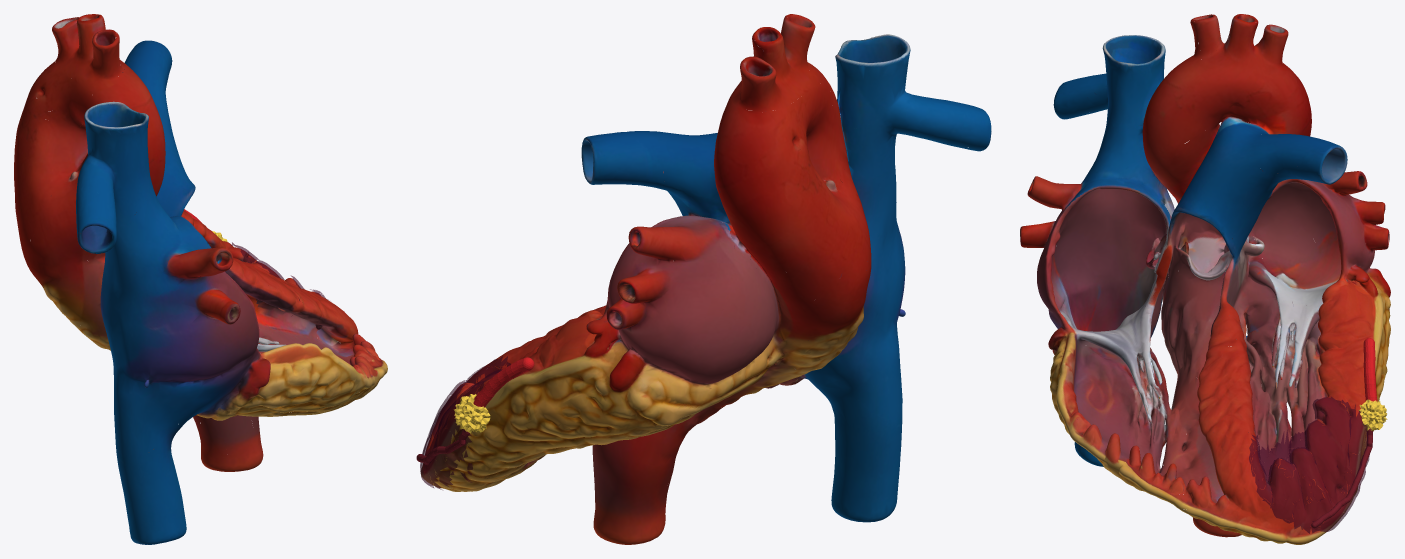
Rendered from heart-diseased.glb.
The picture shows the model from 3 angles, left to right: view 1: azimuth 30°, elevation 25°; view 2: azimuth 150°, elevation 25°; view 3: azimuth 270°, elevation 25°; orthographic projection. The views are drawn at different scales.
Visible parts, largest first — view 1: group, heart-diseased-add_0; view 2: group, heart-diseased-add_0, heart-diseased-add_1, heart-diseased-add_3; view 3: group, heart-diseased-add_0, heart-diseased-add_2, heart-diseased-add_1, heart-diseased-add_3.
Part boxes in pixels (left/top/right/bottom): group: left=14, top=14, right=387, bottom=544; heart-diseased-add_0: left=231, top=242, right=327, bottom=299; group: left=421, top=14, right=991, bottom=544; heart-diseased-add_0: left=420, top=356, right=510, bottom=489; heart-diseased-add_1: left=473, top=357, right=534, bottom=407; heart-diseased-add_3: left=454, top=394, right=490, bottom=433; group: left=1020, top=14, right=1390, bottom=544; heart-diseased-add_0: left=1249, top=397, right=1369, bottom=533; heart-diseased-add_2: left=1311, top=428, right=1373, bottom=528; heart-diseased-add_1: left=1363, top=338, right=1377, bottom=401; heart-diseased-add_3: left=1358, top=399, right=1387, bottom=431.
Bounding box in the file's own units: 0.1092 × 0.13 × 0.097.
5 materials, 1 textured.
